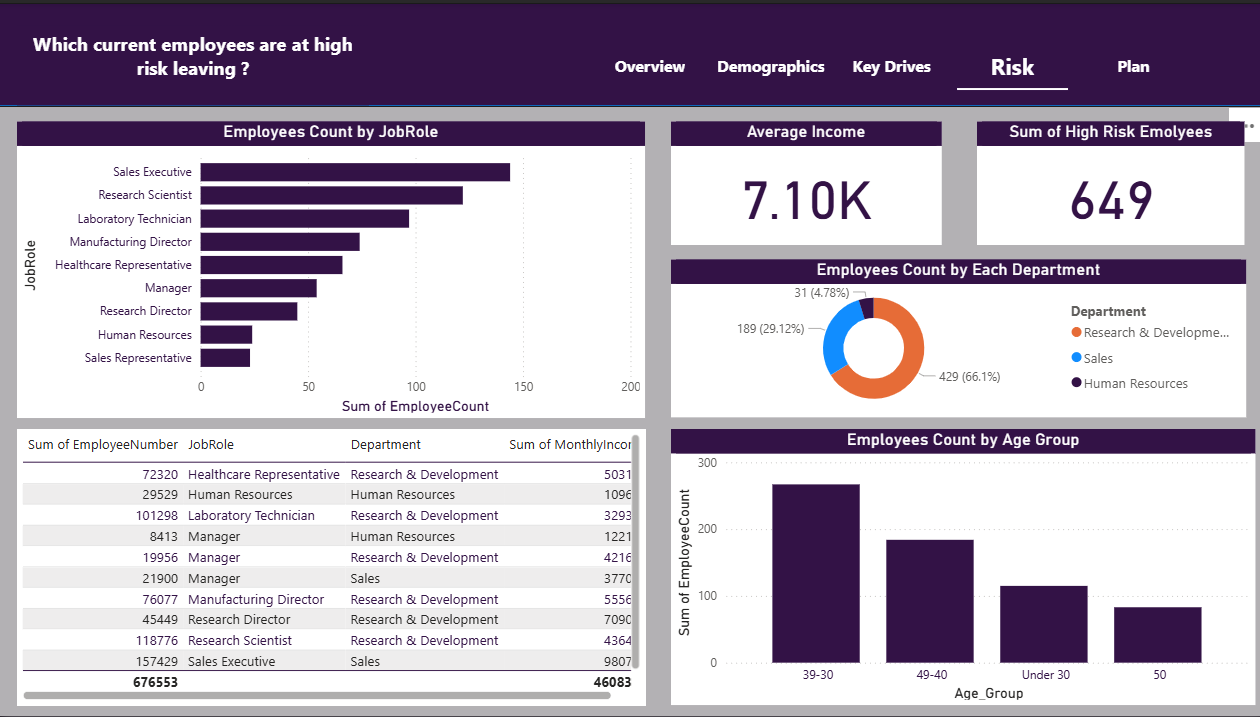

What the dashboard file says about the page in this screenshot:
{"tool":"powerbi","page":{"name":"Risk","canvas":[1280,720],"ordinal":3},"visuals":[{"type":"shape","box":[0,0,1278,104],"z":0},{"type":"tableEx","fields":{"Values":["Sum(WA_Fn-UseC_-HR-Employee-Attrition.EmployeeNumber)","WA_Fn-UseC_-HR-Employee-Attrition.JobRole","WA_Fn-UseC_-HR-Employee-Attrition.Department","Sum(WA_Fn-UseC_-HR-Employee-Attrition.MonthlyIncome)"]},"box":[17.8,429.5,634,278.6],"z":1000},{"type":"donutChart","title":" Employees Count by Each Department","fields":{"Category":["WA_Fn-UseC_-HR-Employee-Attrition.Department"],"Y":["Sum(WA_Fn-UseC_-HR-Employee-Attrition.EmployeeCount)"]},"box":[677.9,259.3,580.4,159.2],"z":2000},{"type":"clusteredBarChart","title":" Employees Count by JobRole","fields":{"Category":["WA_Fn-UseC_-HR-Employee-Attrition.JobRole"],"Y":["Sum(WA_Fn-UseC_-HR-Employee-Attrition.EmployeeCount)"]},"box":[17.8,119.4,634,299.1],"z":3000},{"type":"clusteredColumnChart","title":" Employees Count by Age Group","fields":{"Y":["Sum(WA_Fn-UseC_-HR-Employee-Attrition.EmployeeCount)"],"Category":["WA_Fn-UseC_-HR-Employee-Attrition.Age_Group"]},"box":[677.9,429.5,590.1,278.6],"z":4000},{"type":"card","title":"Average Income","fields":{"Values":["WA_Fn-UseC_-HR-Employee-Attrition.Avg Salary"]},"box":[677.9,119.4,273.1,124.9],"z":5000},{"type":"card","title":"Sum of High Risk Emolyees","fields":{"Values":["Sum(WA_Fn-UseC_-HR-Employee-Attrition.EmployeeCount)"]},"box":[988,119.4,270.3,124.9],"z":6000},{"type":"textbox","box":[17.8,23.3,355.4,81],"z":7000},{"type":"pageNavigator","box":[601.4,37.5,600.1,50],"z":8000}]}

Visuals, with their boxes in screenshot pixels (x1, y1, x2, y2), scaled from the page's 1280x720 canvas onto the 1260x717 screenshot:
shape: (0, 0, 1258, 104)
tableEx - Sum(WA_Fn-UseC_-HR-Employee-Attrition.EmployeeNumber) x WA_Fn-UseC_-HR-Employee-Attrition.JobRole: (18, 428, 642, 705)
" Employees Count by Each Department" donutChart: (667, 258, 1239, 417)
" Employees Count by JobRole" clusteredBarChart: (18, 119, 642, 417)
" Employees Count by Age Group" clusteredColumnChart: (667, 428, 1248, 705)
"Average Income" card: (667, 119, 936, 243)
"Sum of High Risk Emolyees" card: (973, 119, 1239, 243)
textbox: (18, 23, 367, 104)
pageNavigator: (592, 37, 1183, 87)
